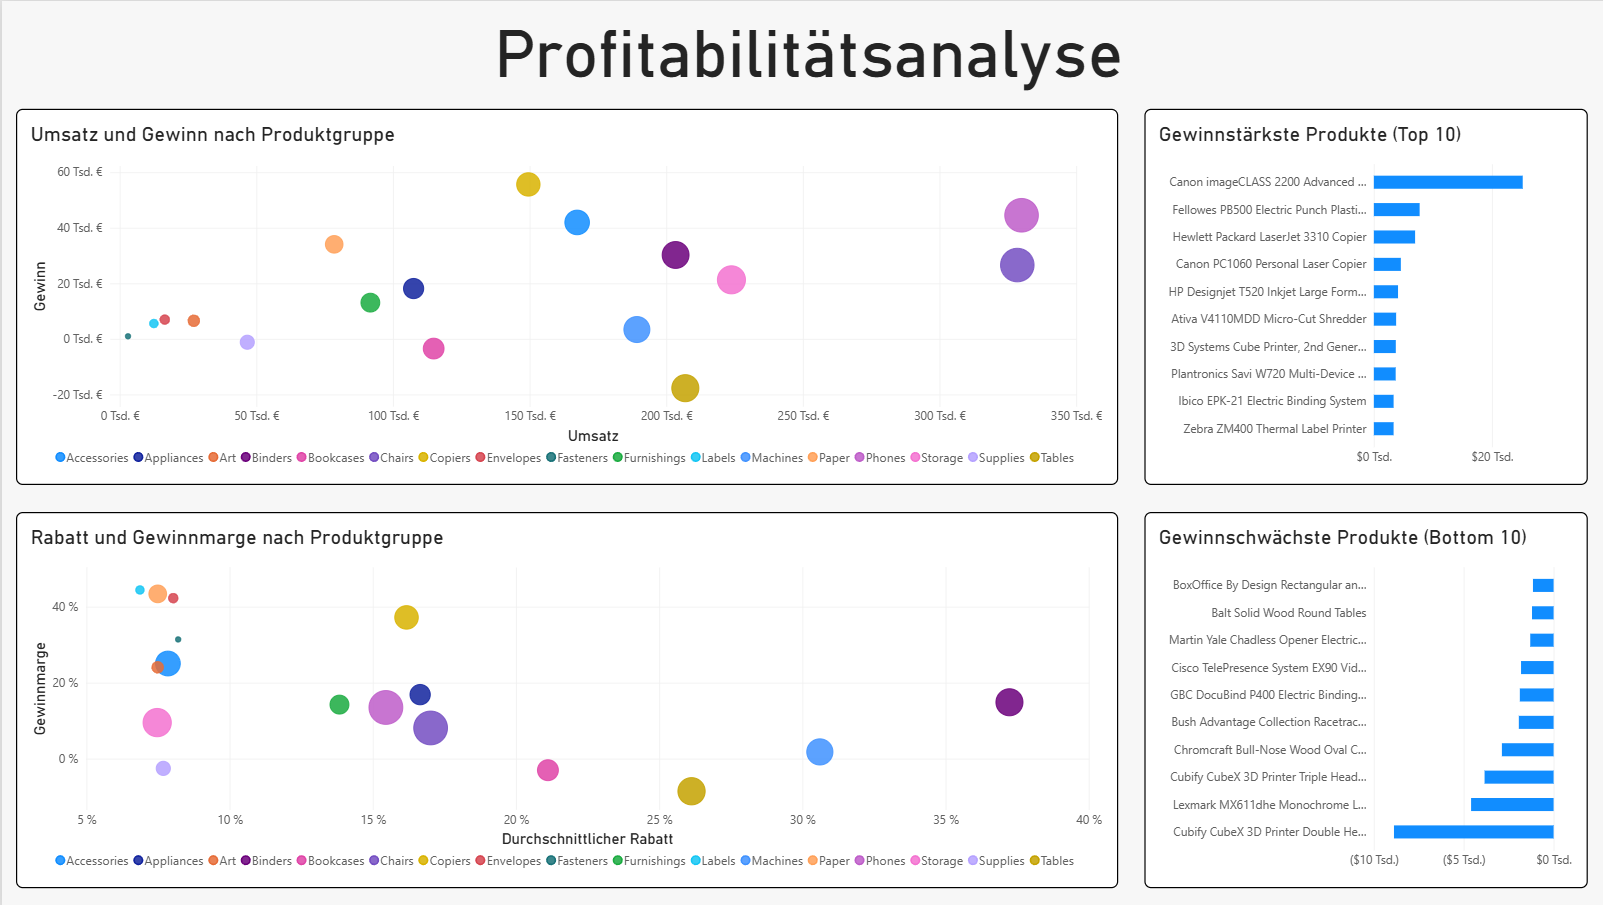

The dashboard page shown, as its layout file describes it:
{"tool":"powerbi","page":{"name":"Profitabilitätsanalyse","canvas":[1920,1080],"ordinal":2},"visuals":[{"type":"textbox","box":[16,16,1888,96],"z":0},{"type":"scatterChart","title":"Umsatz und Gewinn nach Produktgruppe","fields":{"Series":["Sample - Superstore.Sub-Category"],"Size":["Sum(Sample - Superstore.Sales)"],"X":["Sample - Superstore.Umsatz"],"Y":["Sample - Superstore.Gewinn"]},"box":[16,128,1312,448],"z":1000},{"type":"scatterChart","title":"Rabatt und Gewinnmarge nach Produktgruppe","fields":{"Series":["Sample - Superstore.Sub-Category"],"Size":["Sum(Sample - Superstore.Sales)"],"X":["Avg(Sample - Superstore.Discount)"],"Y":["Sample - Superstore.Profit Margin"]},"box":[16,608,1312,448],"z":2000},{"type":"clusteredBarChart","title":"Gewinnstärkste Produkte (Top 10)","fields":{"Category":["Sample - Superstore.Product Name"],"Y":["Sum(Sample - Superstore.Profit)"]},"box":[1360,128,528,448],"z":3000},{"type":"clusteredBarChart","title":"Gewinnschwächste Produkte (Bottom 10)","fields":{"Category":["Sample - Superstore.Product Name"],"Y":["Sum(Sample - Superstore.Profit)"]},"box":[1360,608,528,448],"z":4000}]}

Visuals, with their boxes in screenshot pixels (x1, y1, x2, y2), scaled from the page's 1920x1080 canvas onto the 1603x905 screenshot:
textbox: region(13, 13, 1590, 94)
"Umsatz und Gewinn nach Produktgruppe" scatterChart: region(13, 107, 1109, 483)
"Rabatt und Gewinnmarge nach Produktgruppe" scatterChart: region(13, 509, 1109, 885)
"Gewinnstärkste Produkte (Top 10)" clusteredBarChart: region(1135, 107, 1576, 483)
"Gewinnschwächste Produkte (Bottom 10)" clusteredBarChart: region(1135, 509, 1576, 885)
